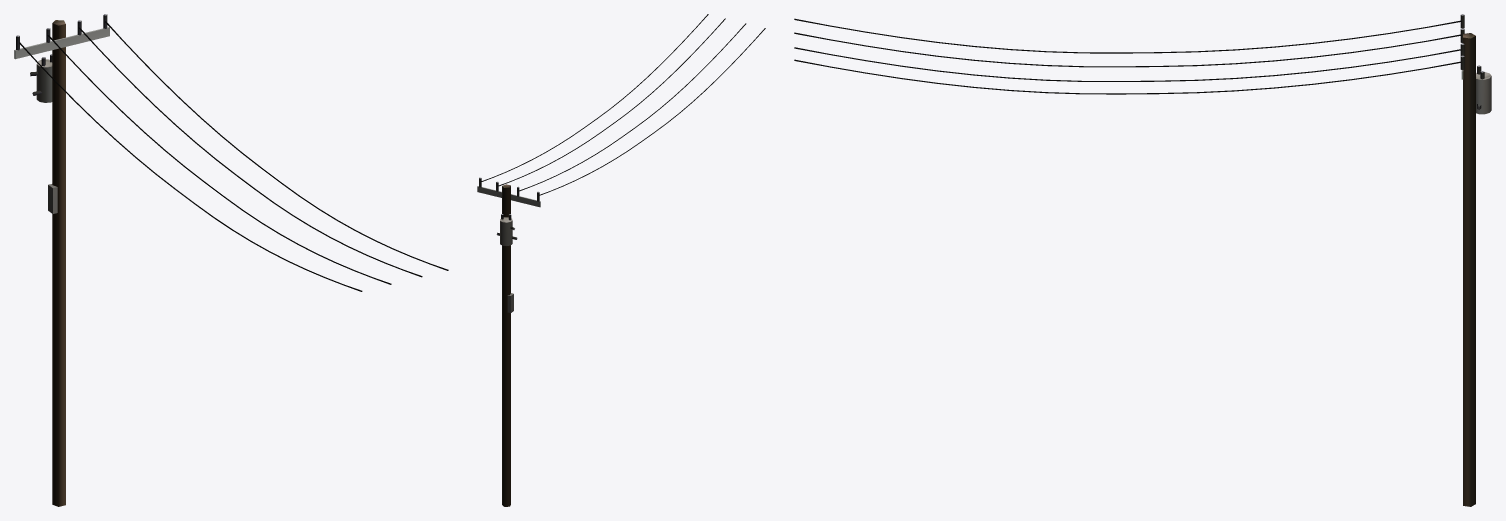
Rendered from ElectricPole_Cables.fbx.
The picture shows the model from 3 angles, left to right: view 1: azimuth 30°, elevation 25°; view 2: azimuth 150°, elevation 25°; view 3: azimuth 270°, elevation 25°; orthographic projection. The views are drawn at different scales.
Parts seen in each view (by area): view 1: ElectricPole_Cables; view 2: ElectricPole_Cables; view 3: ElectricPole_Cables.
Boxes of the visible parts, bbox=[...] form: ElectricPole_Cables: bbox=[14, 14, 448, 506]; ElectricPole_Cables: bbox=[477, 14, 765, 506]; ElectricPole_Cables: bbox=[794, 14, 1491, 506].
Size of the model in its own units: 319 by 1547 by 2087.
